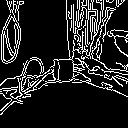cube: (50, 55, 78, 85)
